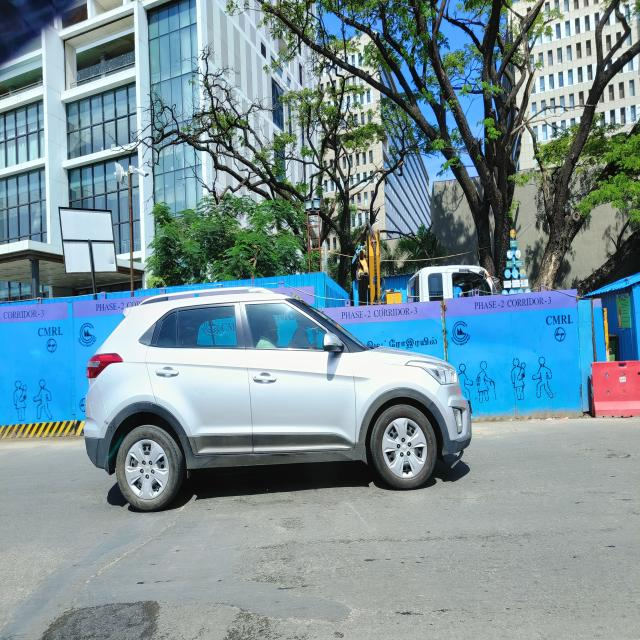scratch: (100, 416, 116, 434), (193, 389, 206, 398)
